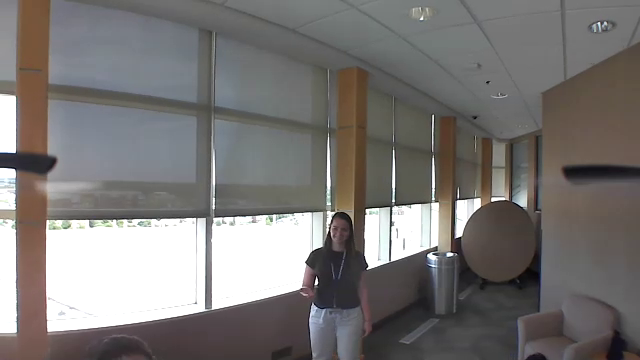land: (292, 284, 322, 302)
